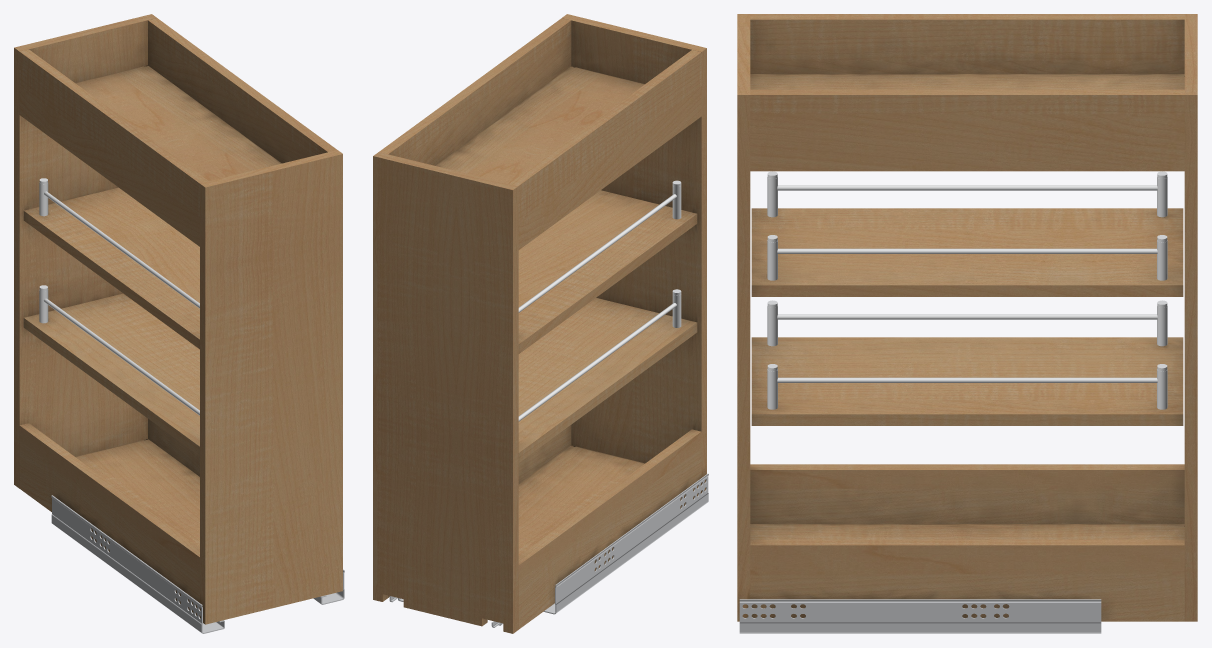
Rendered from inserts-spice-pullout.glb.
The picture shows the model from 3 angles, left to right: view 1: azimuth 30°, elevation 25°; view 2: azimuth 150°, elevation 25°; view 3: azimuth 270°, elevation 25°; orthographic projection. The views are drawn at different scales.
Visible parts, largest first — view 1: insert; view 2: insert; view 3: insert.
Boxes of the visible parts, <box> form: insert: <box>14,14,344,633</box>; insert: <box>373,14,708,633</box>; insert: <box>737,14,1197,633</box>.
Bounding box in the file's own units: 0.2408 × 0.7172 × 0.556.
Materials: 6 (1 with a texture image).
